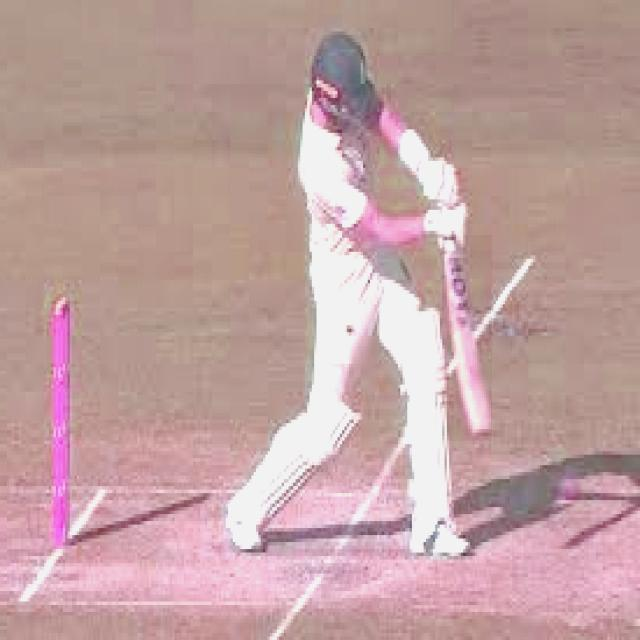bat: (441, 253, 505, 442)
toe: (466, 426, 501, 441)
